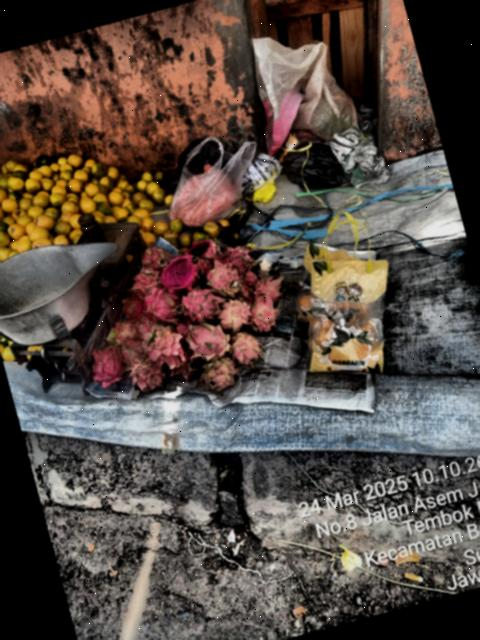buah-naga-belum-matang: (182, 316, 236, 363), (244, 294, 286, 340), (202, 258, 246, 300), (198, 354, 243, 394), (127, 354, 166, 398), (142, 324, 183, 364), (226, 328, 265, 369), (212, 294, 253, 332), (251, 274, 290, 306), (167, 352, 202, 383), (105, 316, 141, 344), (239, 266, 260, 288)
buah-naga-matang: (178, 284, 226, 325), (86, 346, 128, 390), (139, 282, 180, 324), (218, 242, 258, 276), (128, 268, 164, 298), (140, 245, 171, 273), (117, 294, 142, 318)
